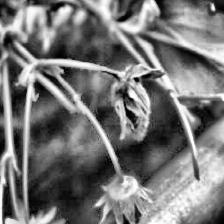Gray Mold: (98, 63, 167, 142)
